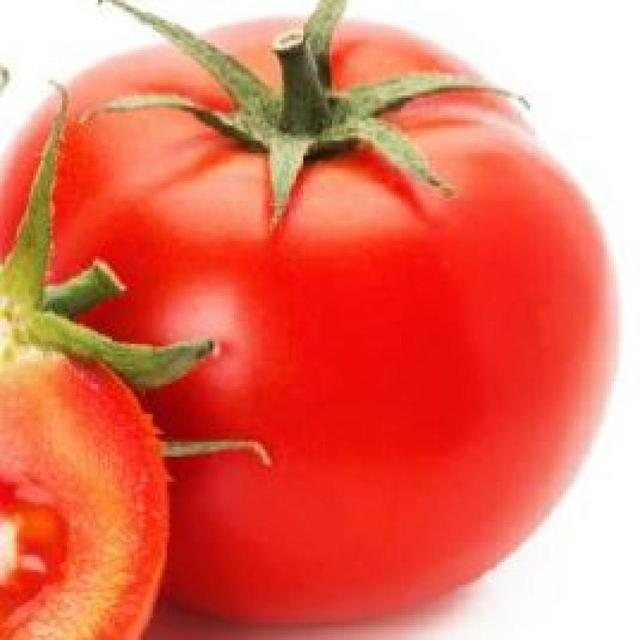Healthy Fruit: (1, 13, 406, 411)
